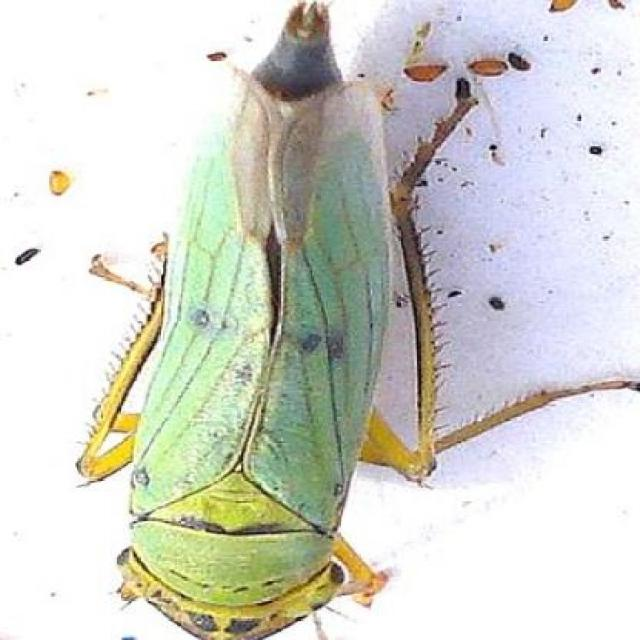green-leafhopper: (109, 6, 449, 640)
